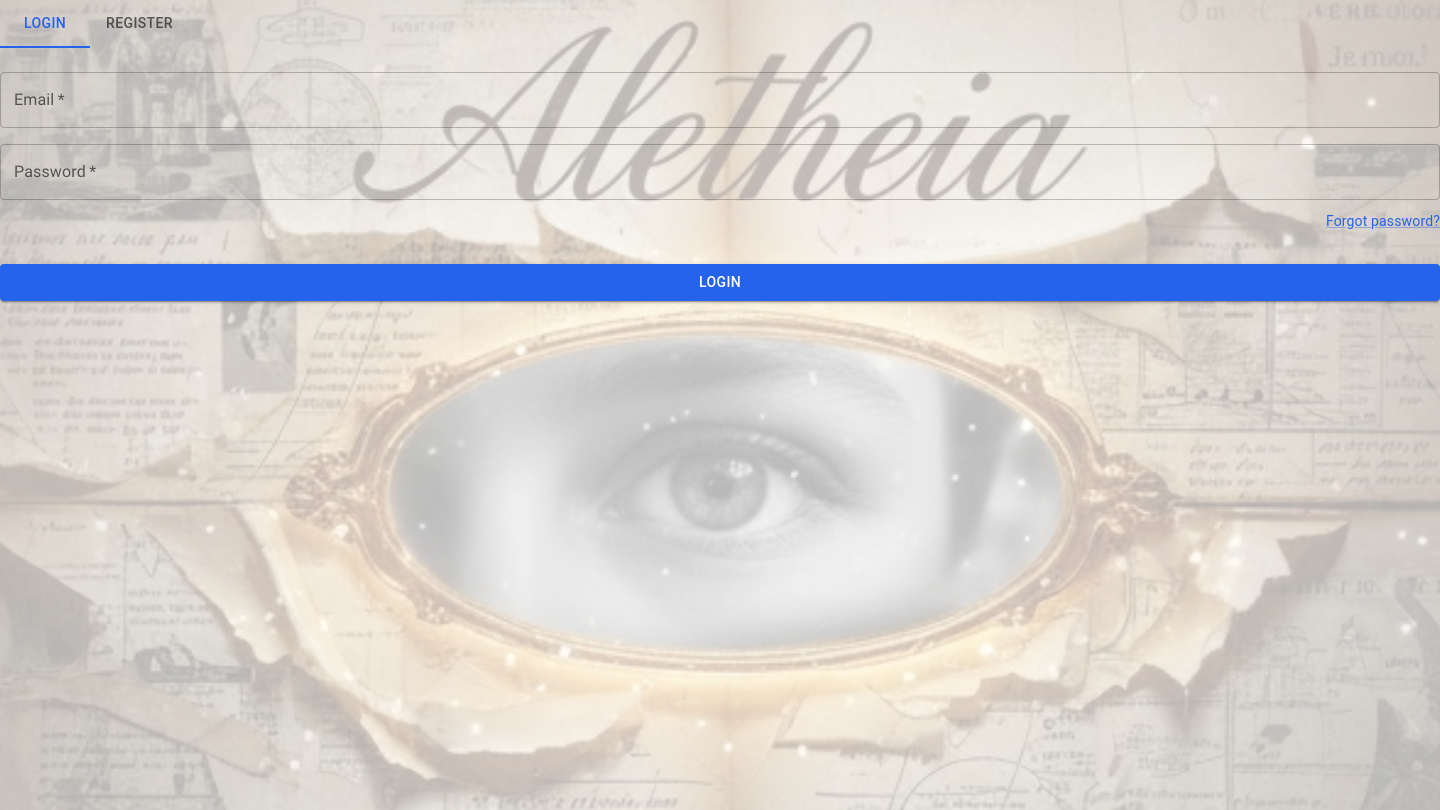
LoginForm Error Paths › should handle login with various error message formats
Type "test@example.com" into the field labelled "Email *". click: (720, 100)
box: [0,72,1439,128]
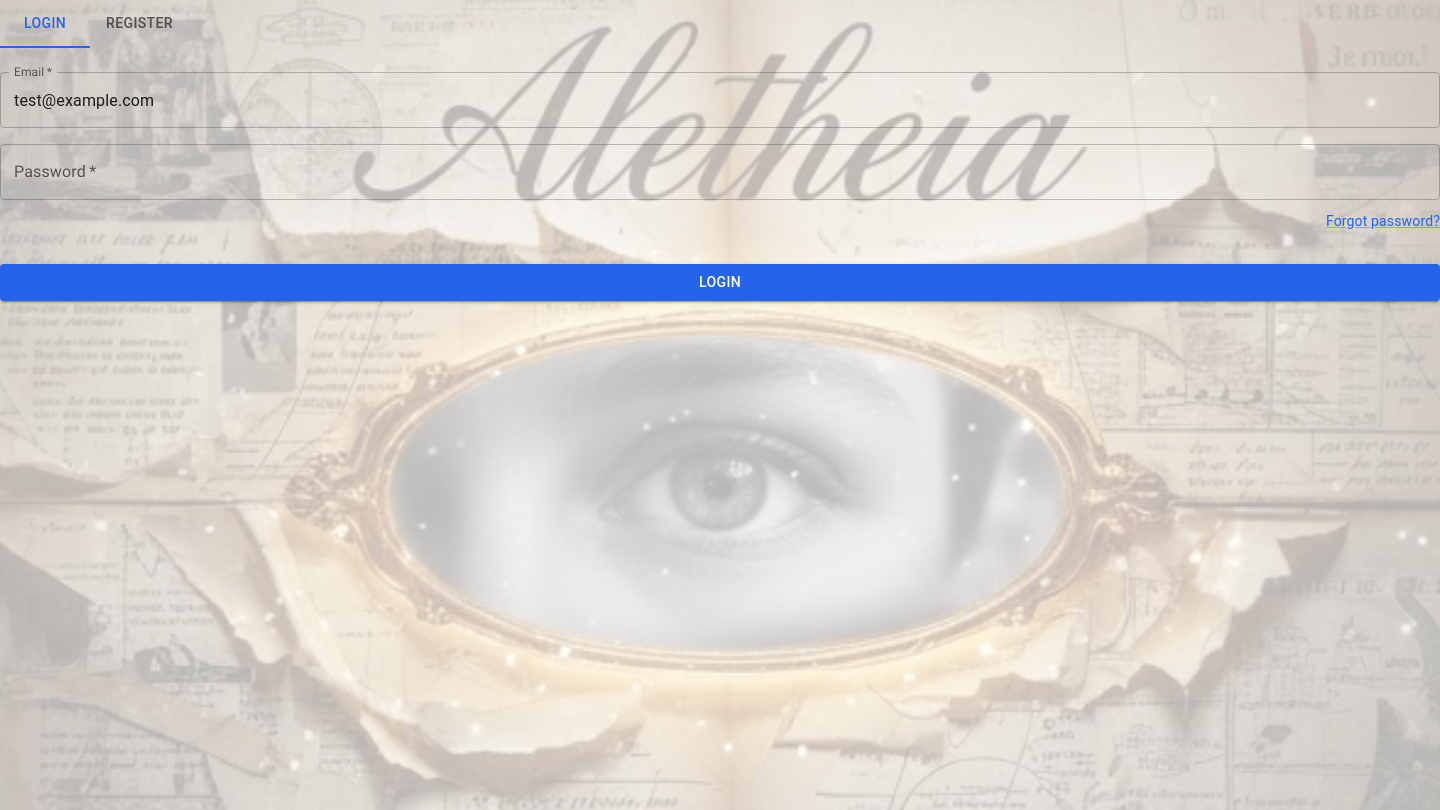
Type "password123" into the password field labelled "Password *". click: (720, 172)
box: [0,144,1439,200]
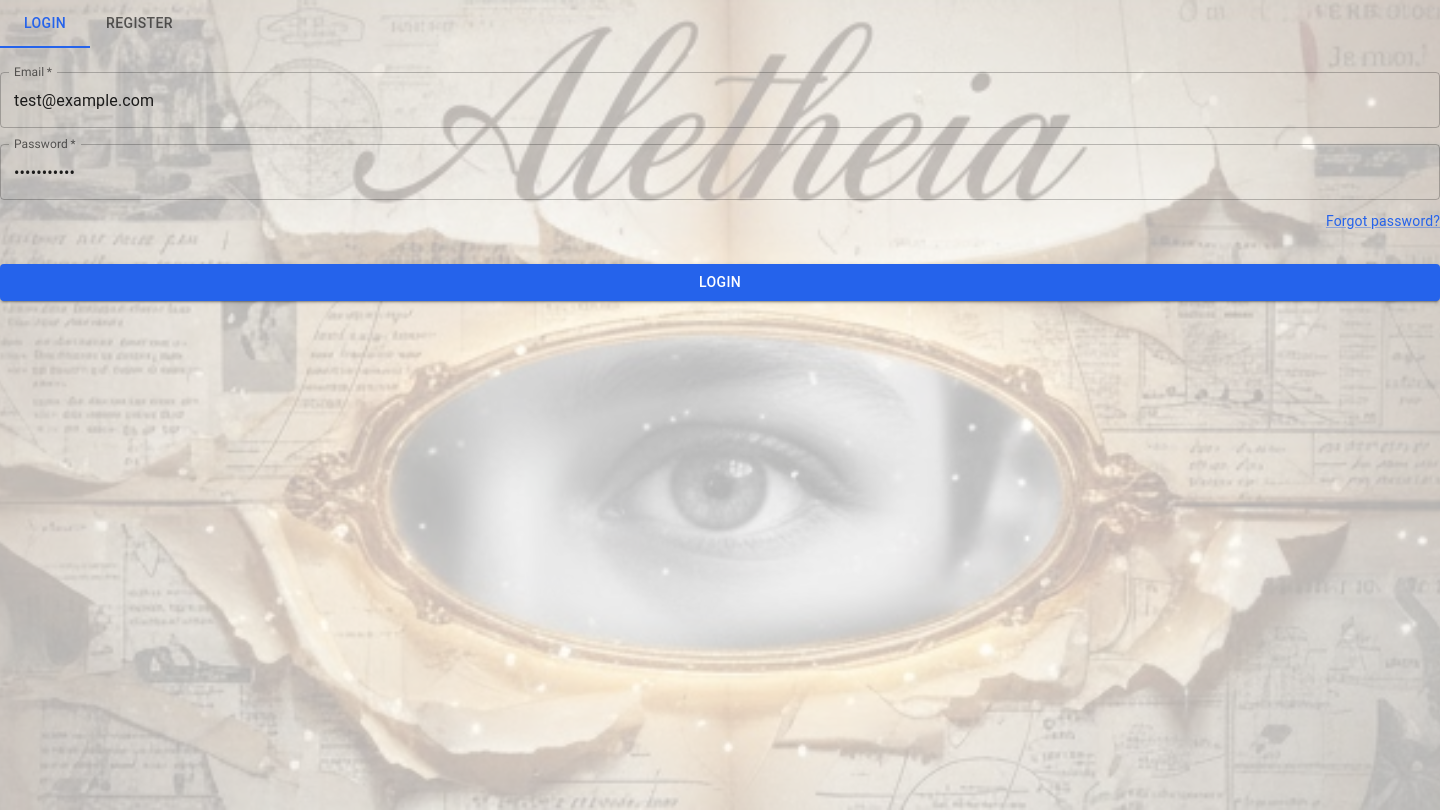
Submit the form, box [0,72,1439,300]
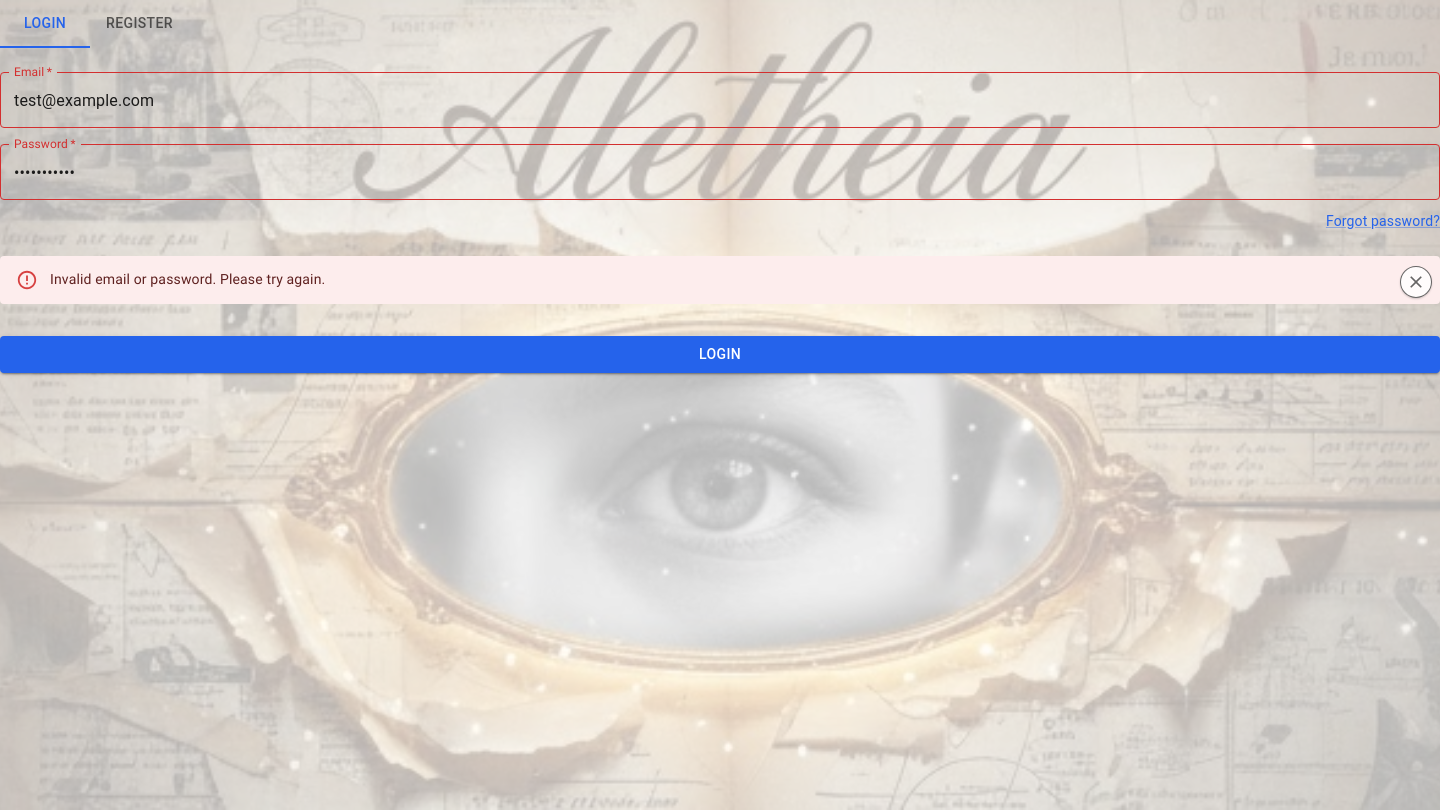
Check: the message "Invalid email or password. Please try again." is shown, box [0,256,1439,304]
